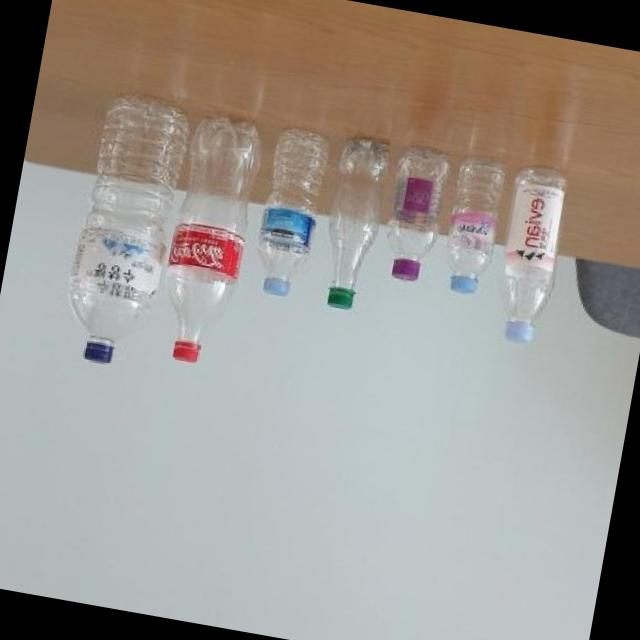plastic_bottle: (56, 92, 193, 370), (148, 110, 264, 368), (486, 162, 574, 346), (247, 122, 335, 302), (313, 134, 394, 312), (434, 156, 512, 296), (378, 144, 451, 284)
